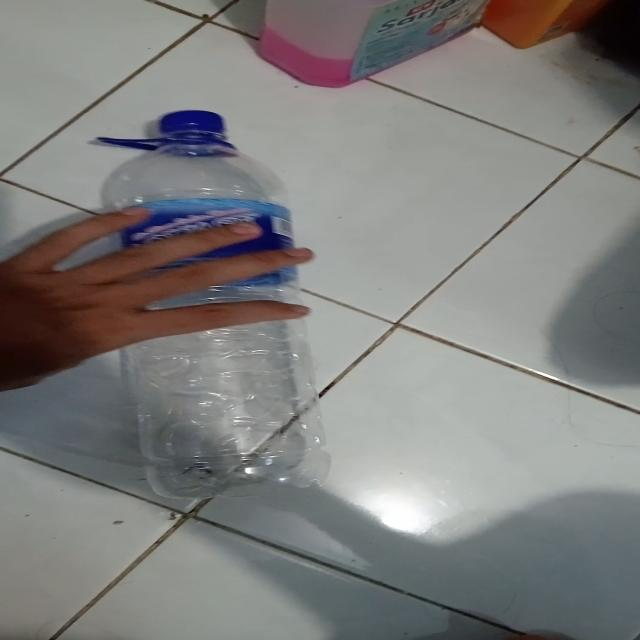Botol bekas: (102, 109, 344, 499)
